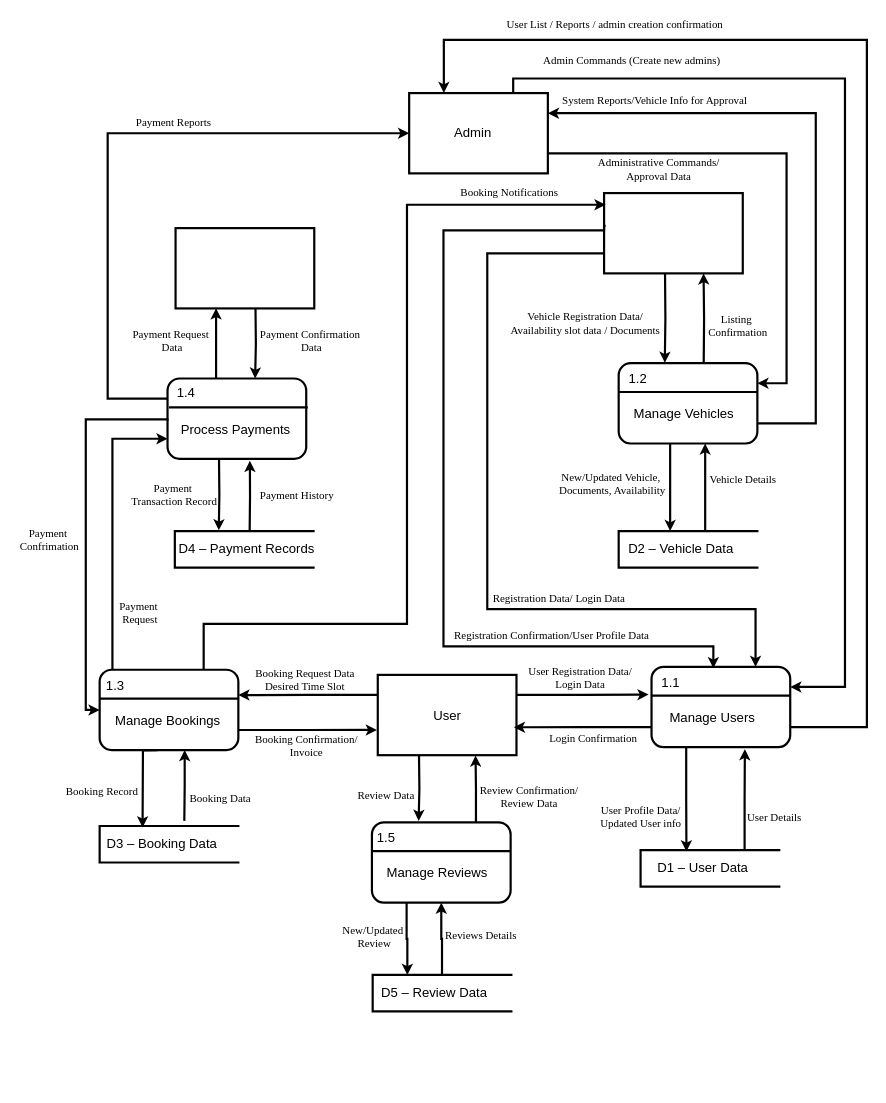
The diagram is 886 pixels wide and 1103 high, and some of its shapes have lost their labels. Here are the shapes that lost their labels. From the top down, the centre of each, then its label:
the point at 673,233: Vehicle Owner(s)
the point at 244,268: Khalti Payment Gateway
